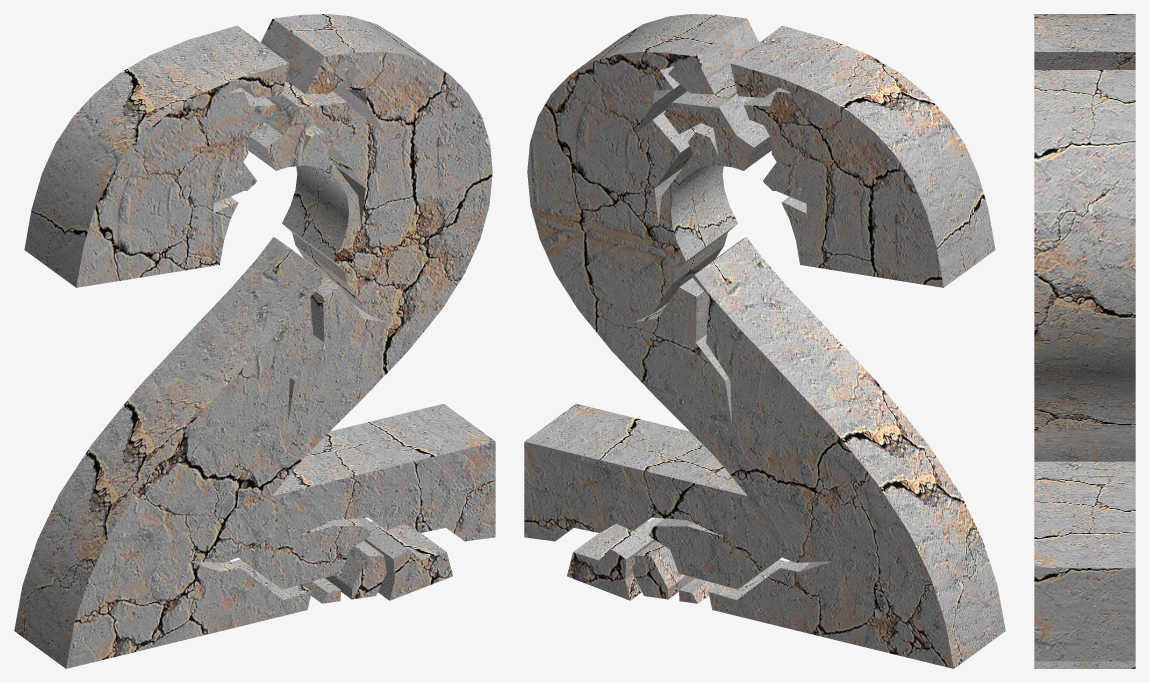
3 views of the same model, side by side, from view 1: azimuth 30°, elevation 25°; view 2: azimuth 150°, elevation 25°; view 3: azimuth 270°, elevation 25° (orthographic). The views are drawn at different scales.
Parts seen in each view (by area): view 1: 2; view 2: 2; view 3: 2.
Boxes of the visible parts, box(x1,y1,x2,y2) form: 2: box(14, 14, 495, 668); 2: box(524, 14, 1005, 668); 2: box(1034, 14, 1135, 668).
Size of the model in its own units: 71.74 by 89.62 by 15.
1 material, 1 textured.
